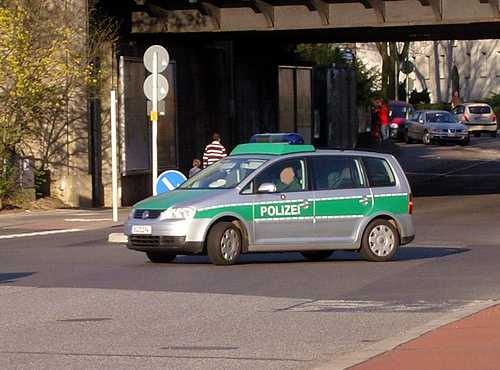Police Car: (132, 140, 423, 264)
